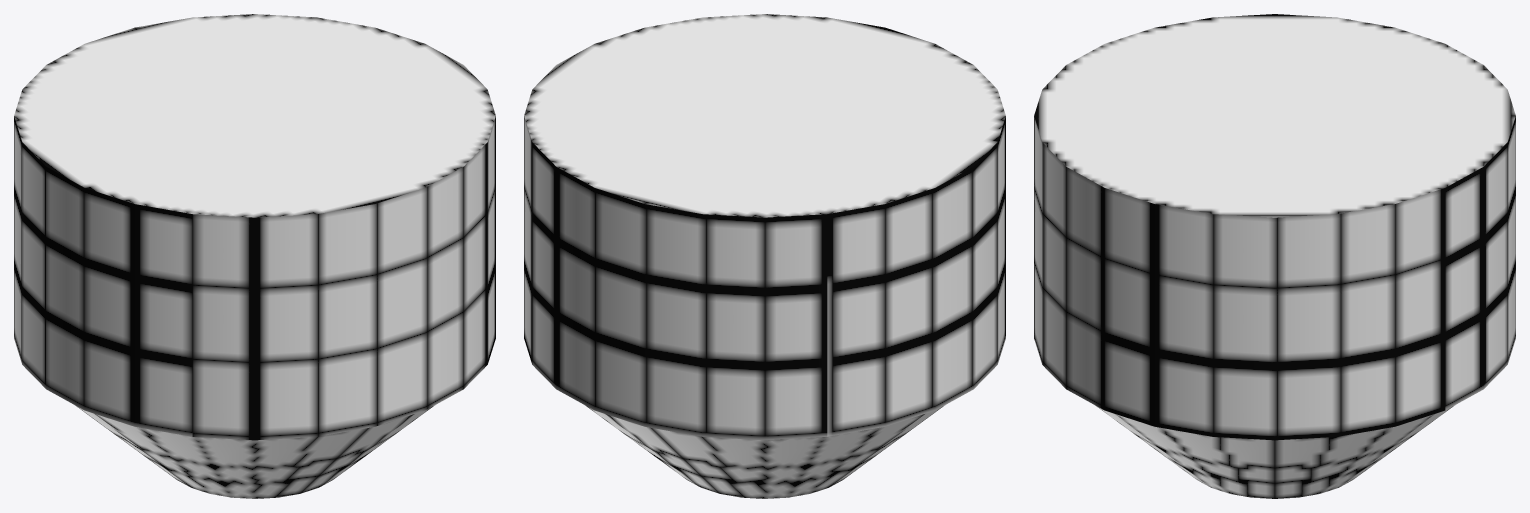
File: Acamar_Lab_1_Interior.obj
3 views of the same model, side by side, from view 1: azimuth 30°, elevation 25°; view 2: azimuth 150°, elevation 25°; view 3: azimuth 270°, elevation 25° (orthographic).
Parts seen in each view (by area): view 1: Acamar_Lab_1_Interior; view 2: Acamar_Lab_1_Interior; view 3: Acamar_Lab_1_Interior.
Part boxes in pixels (x1=…): Acamar_Lab_1_Interior: x1=14, y1=14, x2=495, y2=498; Acamar_Lab_1_Interior: x1=524, y1=14, x2=1005, y2=498; Acamar_Lab_1_Interior: x1=1034, y1=14, x2=1515, y2=498.
Bounding box in the file's own units: 2.5 × 1.98 × 2.5.
Materials: 1 (1 with a texture image).
